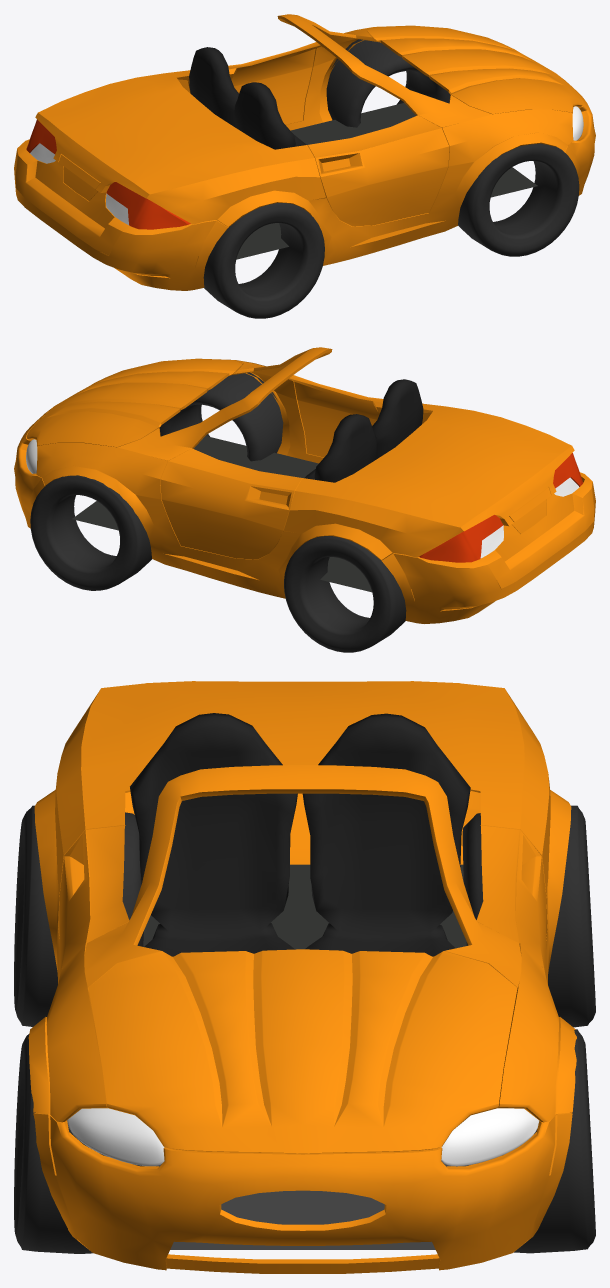
File: Car1.fbx
The picture shows the model from 3 angles, top to bottom: view 1: azimuth 30°, elevation 25°; view 2: azimuth 150°, elevation 25°; view 3: azimuth 270°, elevation 25°; orthographic projection. The views are drawn at different scales.
Parts seen in each view (by area): view 1: Bonnet, Wheel1, Wheel4, Wheel3, Chassis.001, RGC_6:Backmesh.003, RGC_6:Backmesh.001, polySurface12.003, Chassis, polySurface12.002; view 2: Bonnet, Wheel2, Wheel3, Wheel4, Chassis.001, RGC_6:Backmesh.001, RGC_6:Backmesh.003, polySurface12.002, Chassis, polySurface12.003; view 3: Bonnet, RGC_6:Backmesh.003, RGC_6:Backmesh.001, Wheel2, Wheel1, Wheel3, Wheel4, pPlane5.001, polySurface13.002, polySurface13.003, Chassis.
Part boxes in pixels (x1,y1,x2,y2): Bonnet: (14,14,595,290); Wheel1: (203,203,324,318); Wheel4: (458,143,579,256); Wheel3: (326,39,450,127); Chassis.001: (291,103,537,197); RGC_6:Backmesh.003: (234,82,295,149); RGC_6:Backmesh.001: (189,47,306,146); polySurface12.003: (106,182,190,229); Chassis: (236,223,288,259); polySurface12.002: (26,119,56,163); Bonnet: (14,347,595,623); Wheel2: (284,536,406,652); Wheel3: (30,475,151,590); Wheel4: (159,372,283,461); Chassis.001: (72,436,318,530); RGC_6:Backmesh.001: (314,414,376,482); RGC_6:Backmesh.003: (304,379,423,479); polySurface12.002: (419,515,503,562); Chassis: (320,557,371,592); polySurface12.003: (553,453,583,496); Bonnet: (28,681,576,1273); RGC_6:Backmesh.003: (130,713,297,956); RGC_6:Backmesh.001: (302,713,470,956); Wheel2: (462,805,595,1027); Wheel1: (14,805,143,1026); Wheel3: (468,1029,595,1253); Wheel4: (14,1034,142,1253); pPlane5.001: (156,1161,467,1249); polySurface13.002: (441,1108,539,1166); polySurface13.003: (67,1108,164,1166); Chassis: (143,864,466,949).
Bounding box in the file's own units: 348 × 130 × 192.
